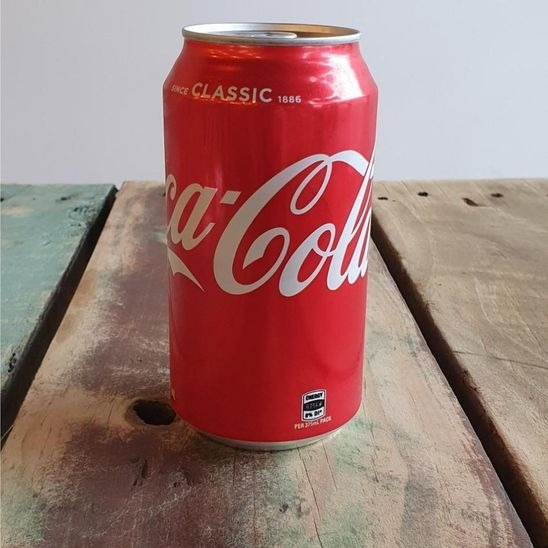metal: (161, 20, 381, 453)
